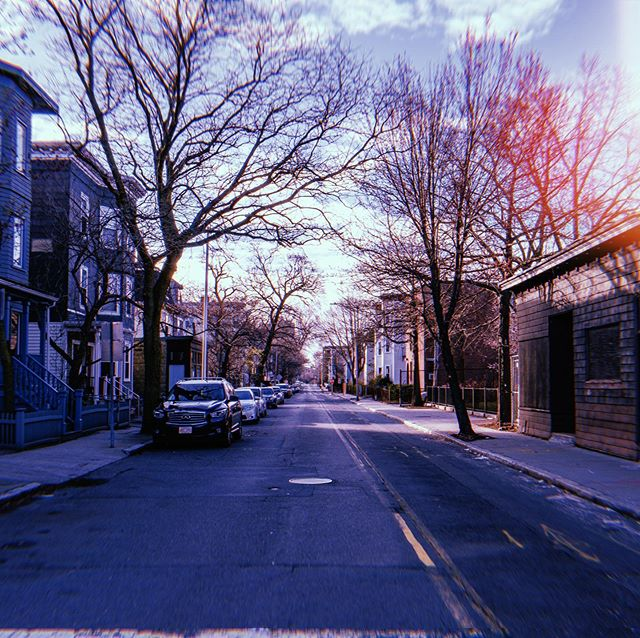building: (1, 91, 136, 428), (509, 216, 640, 469), (365, 282, 496, 415)
car: (85, 4, 333, 465), (380, 55, 565, 456), (150, 370, 248, 451)
sky: (110, 1, 626, 212)
street: (22, 384, 604, 638)
